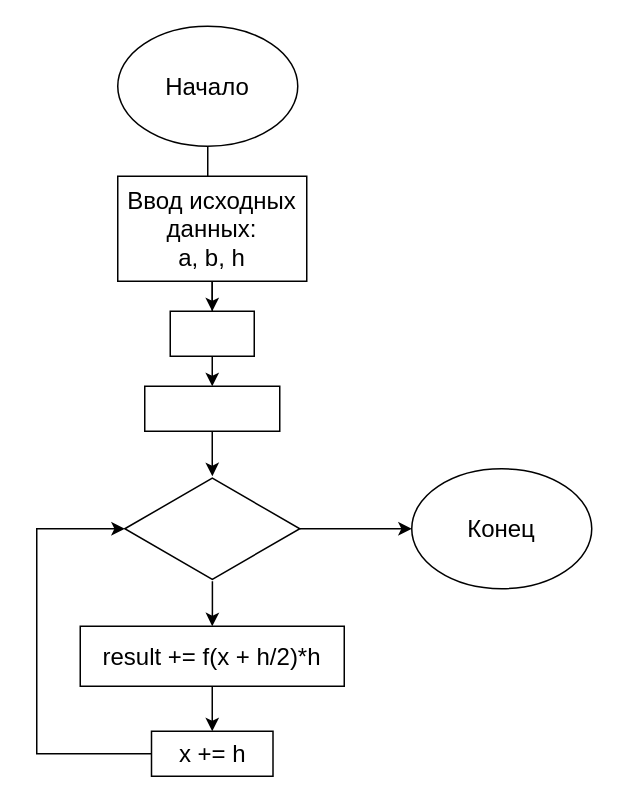
The diagram is 618 pixels wide and 803 high, and some of its shapes have lost their labels. Here are the shapes that lost their labels. From the top down, the centre of each, then its label:
At point 211,333: "x = a".
At point 211,408: "result = 0".
At point 211,528: "x < b".
